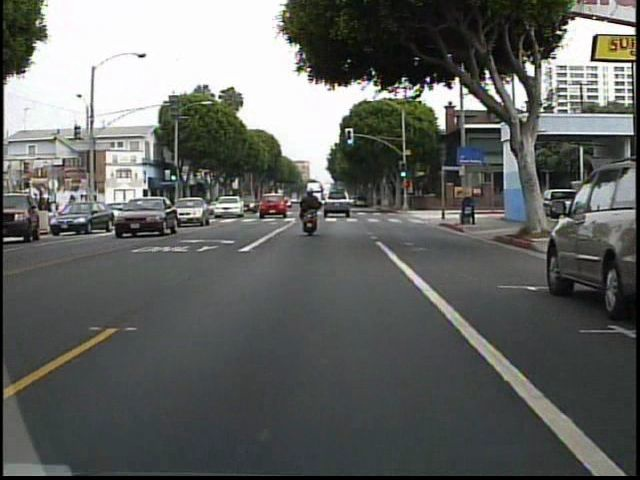person: (296, 184, 326, 241)
